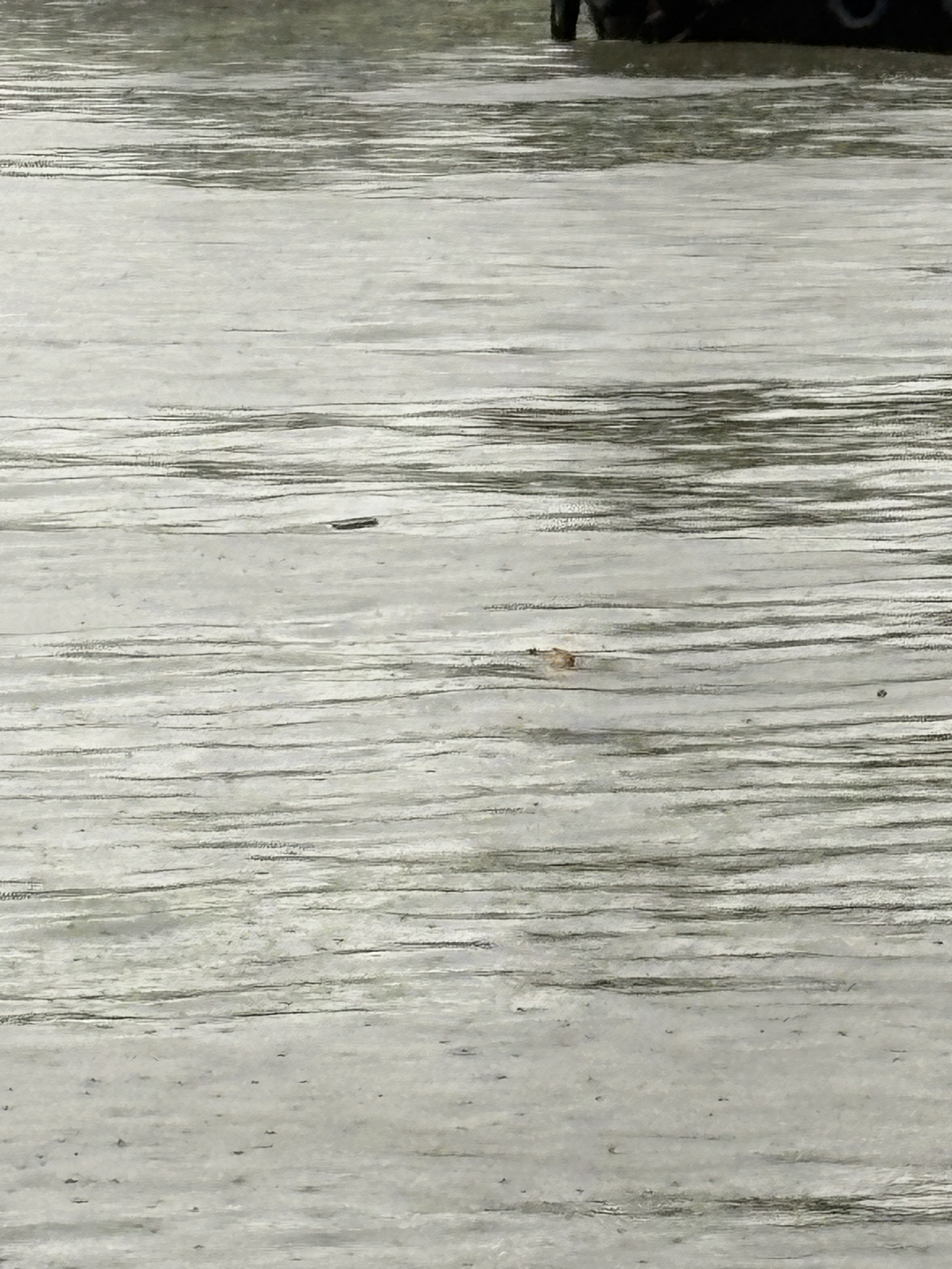Natural wastes: (480, 497, 507, 563), (382, 765, 403, 837)
